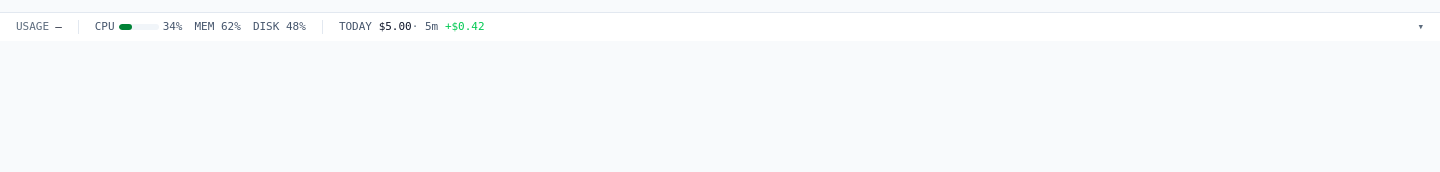
Test: appStatusBar › collapses to corner tab
What coordinates should you click on to do the following:
click the button with test id "statusbar-collapse"
I would click on:
 (1421, 27)
Its box is top-left (1413, 19), bottom-right (1428, 35).
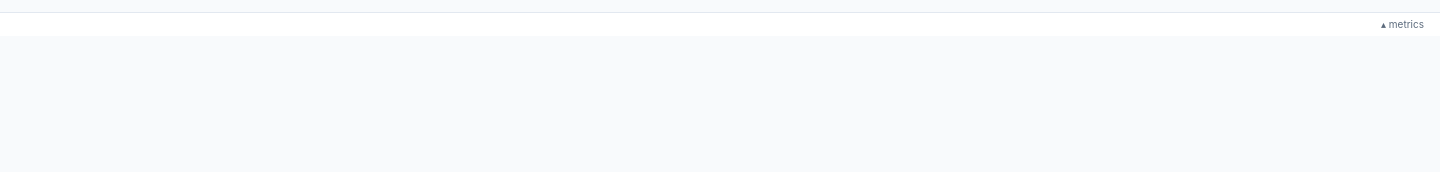
Now the button with test id "statusbar-tab" is shown, box top-left (1373, 15), bottom-right (1432, 34)
